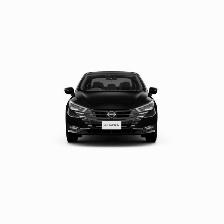NON-EV: (66, 72, 160, 144)
